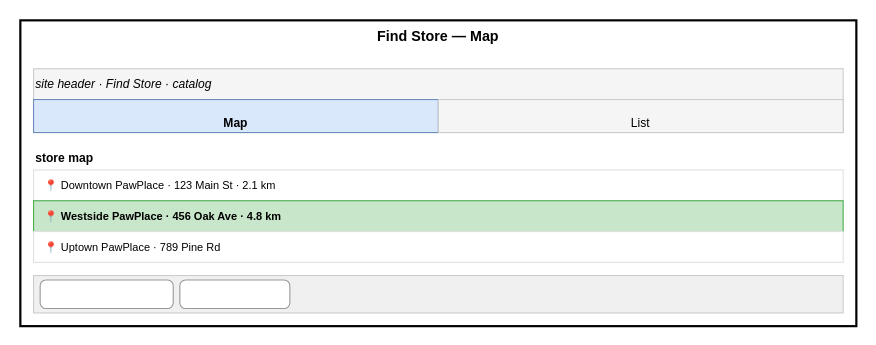
Image size: 876x345. Some labels were removed from this diagram. The centre of each missing label's shape, as x and y in pixels:
"select store" goes at (234,294).
"use my location" goes at (106,294).
